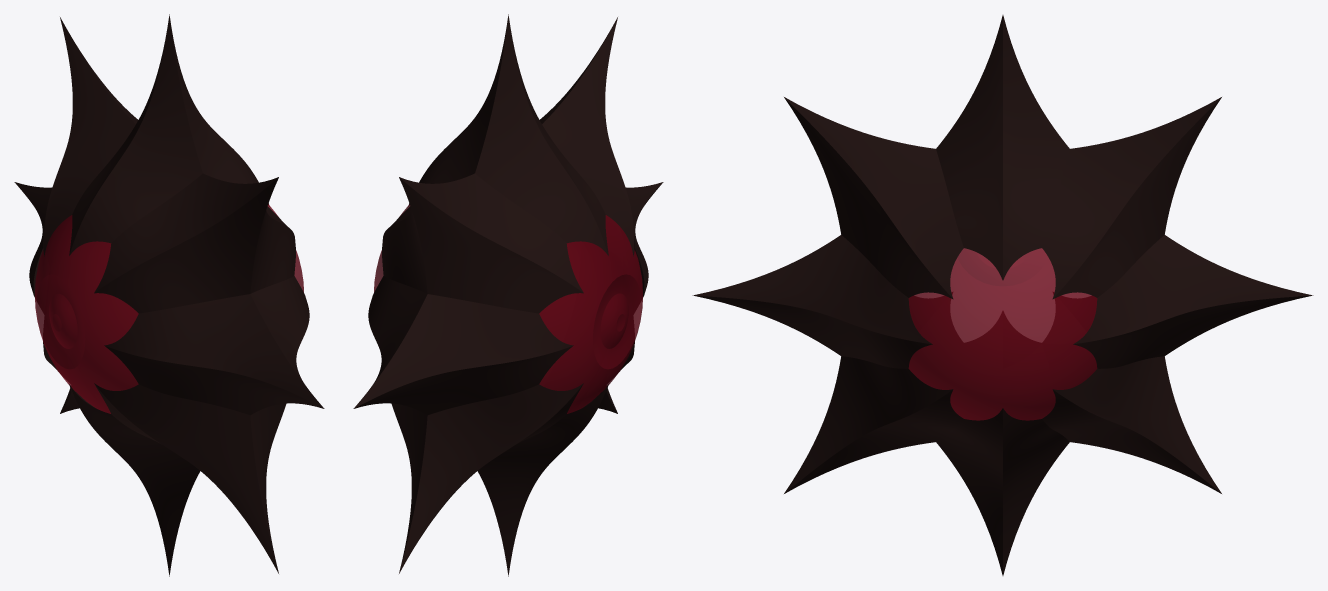
File: akarryon3.glb
The picture shows the model from 3 angles, left to right: view 1: azimuth 30°, elevation 25°; view 2: azimuth 150°, elevation 25°; view 3: azimuth 270°, elevation 25°; orthographic projection.
Visible parts, largest first — view 1: Sphere.006; view 2: Sphere.006; view 3: Sphere.006.
Boxes of the visible parts, <box> form: Sphere.006: <box>14,14,324,576</box>; Sphere.006: <box>353,14,663,576</box>; Sphere.006: <box>692,15,1313,575</box>.
Size of the model in its own units: 1.97 by 4.64 by 4.64.
